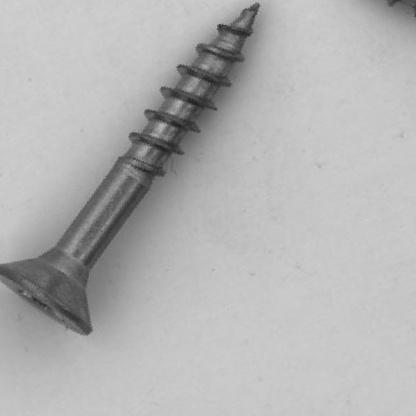metal: (3, 2, 261, 336)
